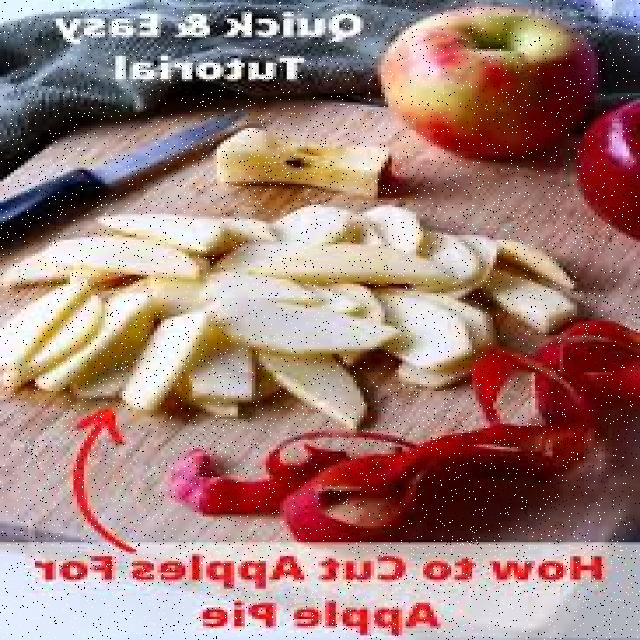Apple: (388, 10, 595, 156), (210, 137, 406, 197), (255, 356, 372, 428), (580, 100, 634, 249), (126, 310, 208, 408), (14, 253, 206, 290), (214, 319, 394, 356), (0, 282, 84, 352), (94, 212, 229, 255), (395, 292, 467, 370), (250, 253, 449, 278), (502, 234, 572, 286), (477, 290, 572, 324), (369, 204, 430, 250), (268, 205, 358, 235)
